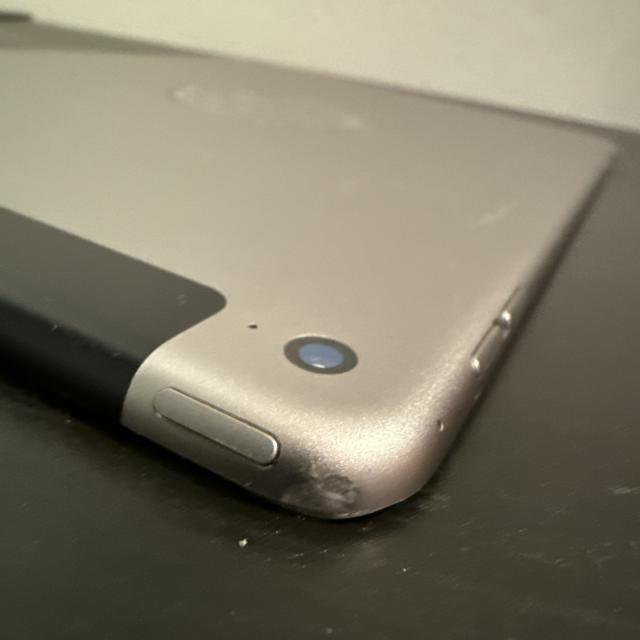Dents: (282, 461, 378, 519), (220, 474, 263, 492)
